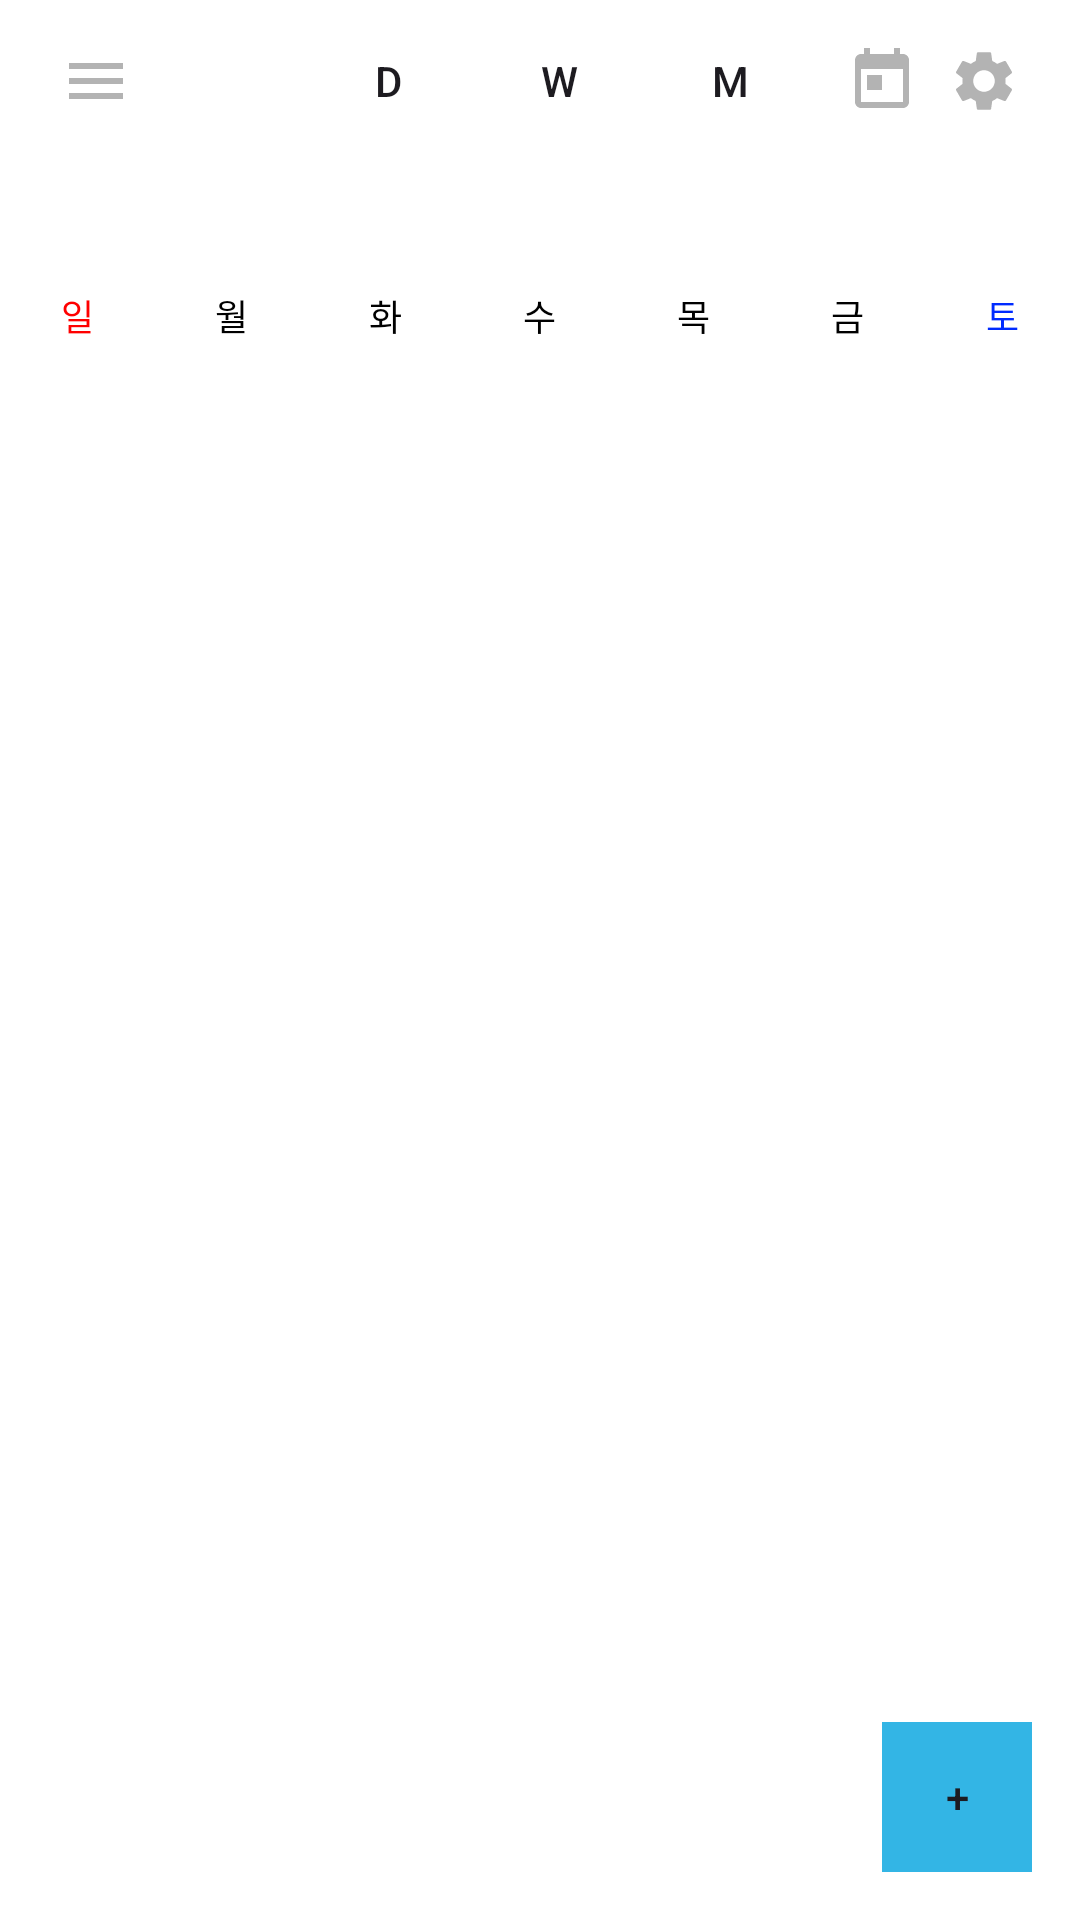

Named icons in this screenshot (1080x1920) and their centers, point (x, y):
menu: point (96, 81)
settings: point (984, 81)
today: point (882, 78)
